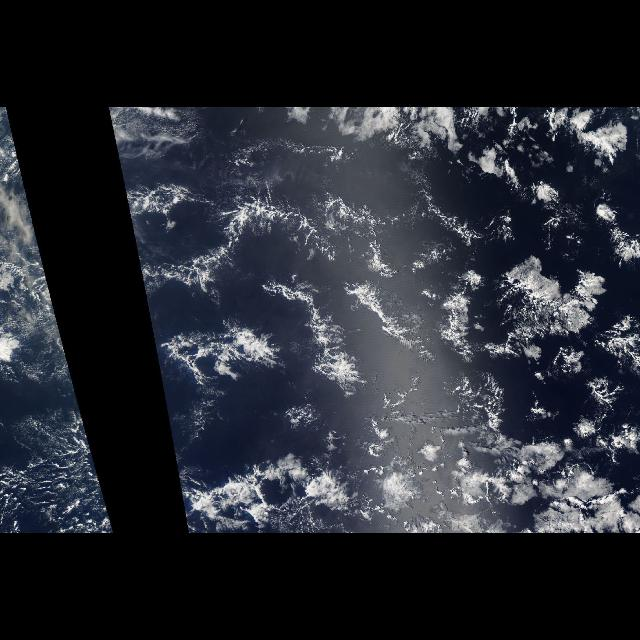Fish: (136, 180, 638, 388), (183, 449, 384, 533)
